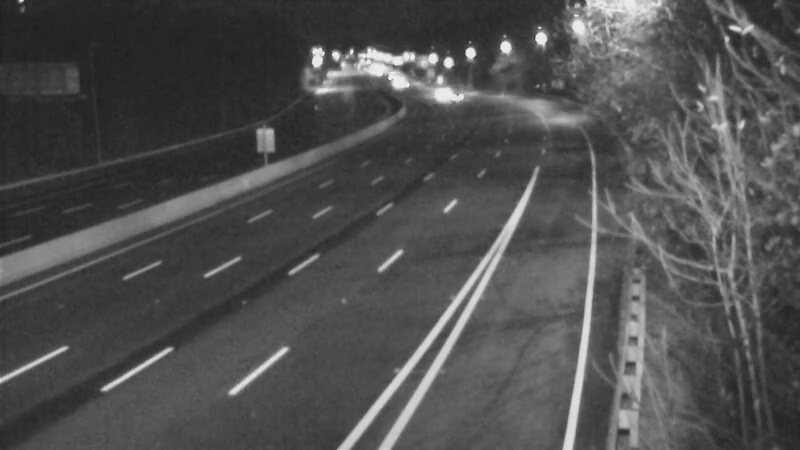vehicle: (417, 67, 467, 117), (428, 70, 478, 120)
